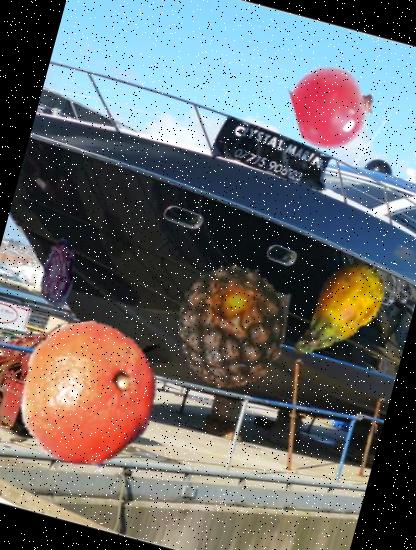Cactus: (265, 240, 411, 386)
Clementine: (0, 305, 180, 489)
Dates: (15, 230, 100, 316)
Pineapple: (155, 250, 310, 404)
Redcurrant: (283, 57, 385, 158)
